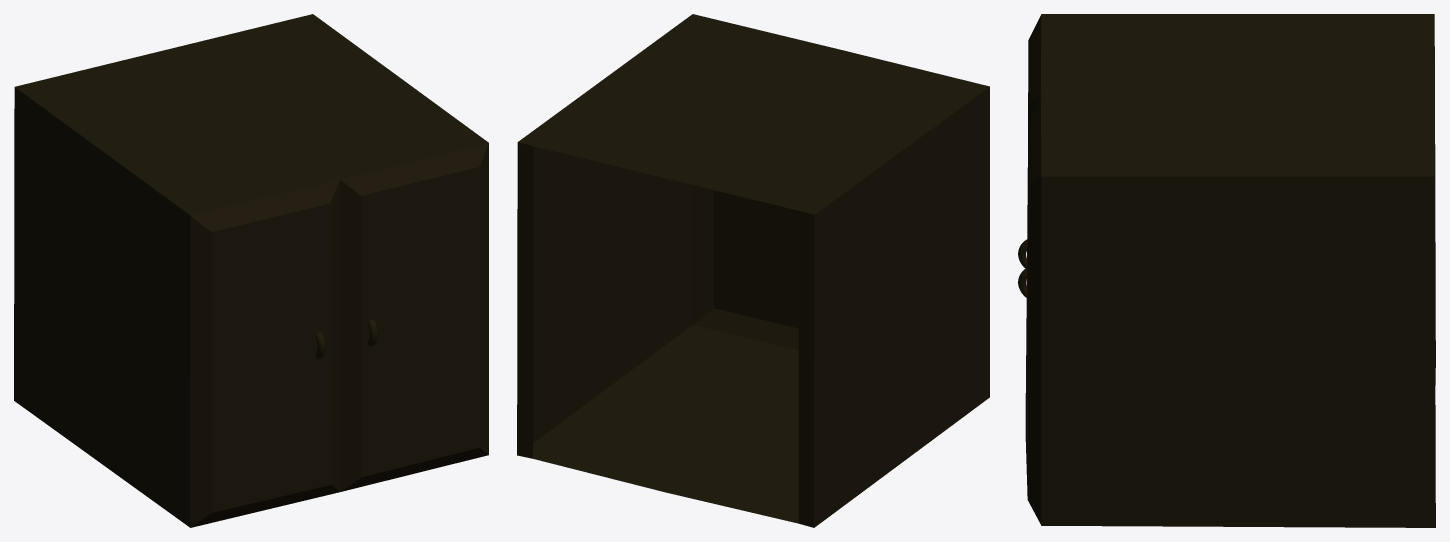
Rendered from arribacocinapuerta.fbx.
3 views of the same model, side by side, from view 1: azimuth 30°, elevation 25°; view 2: azimuth 150°, elevation 25°; view 3: azimuth 270°, elevation 25° (orthographic). The views are drawn at different scales.
Parts seen in each view (by area): view 1: Cube; view 2: Cube; view 3: Cube.
Boxes of the visible parts, x1,y1,x2,y2 form: Cube: [14, 14, 488, 527]; Cube: [517, 14, 989, 527]; Cube: [1025, 14, 1435, 527].
Size of the model in its own units: 200 by 202 by 217.
